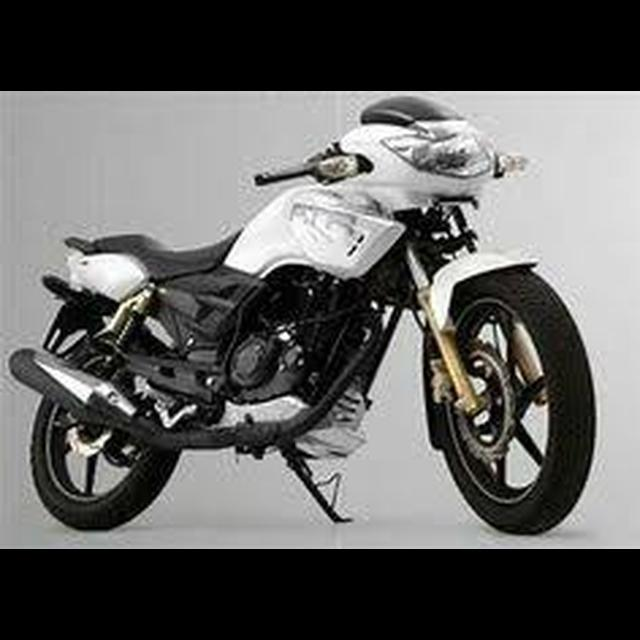motorcycle: (5, 91, 600, 539)
